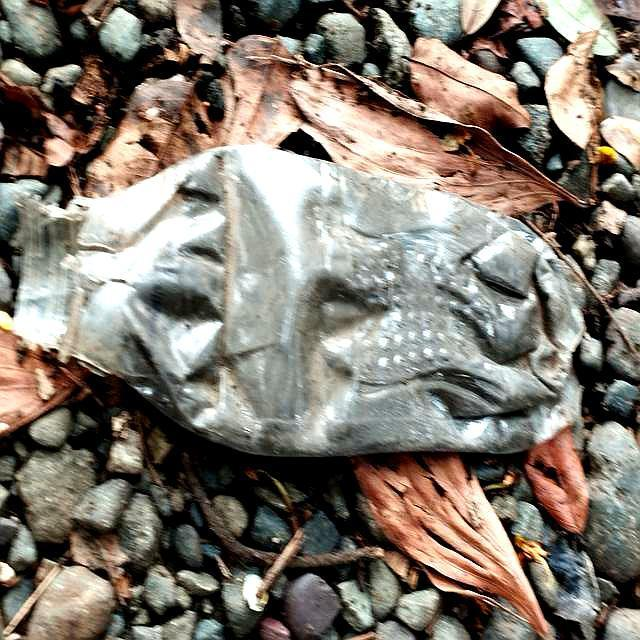Non-biodegradable: (3, 103, 601, 493)
